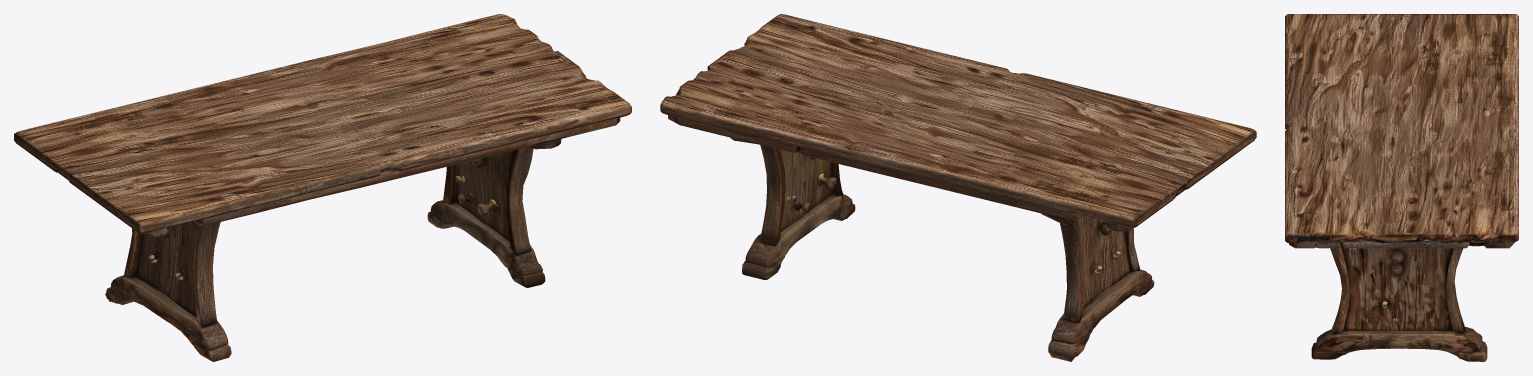
3 views of the same model, side by side, from view 1: azimuth 30°, elevation 25°; view 2: azimuth 150°, elevation 25°; view 3: azimuth 270°, elevation 25° (orthographic). The views are drawn at different scales.
Parts seen in each view (by area): view 1: tripo_node_7f2deb86-ee65-4ee2-8d6e-47a65da41e77; view 2: tripo_node_7f2deb86-ee65-4ee2-8d6e-47a65da41e77; view 3: tripo_node_7f2deb86-ee65-4ee2-8d6e-47a65da41e77.
Part boxes in pixels (bbox=[...]): tripo_node_7f2deb86-ee65-4ee2-8d6e-47a65da41e77: bbox=[14, 14, 631, 361]; tripo_node_7f2deb86-ee65-4ee2-8d6e-47a65da41e77: bbox=[660, 14, 1256, 361]; tripo_node_7f2deb86-ee65-4ee2-8d6e-47a65da41e77: bbox=[1285, 14, 1518, 361].
Size of the model in its own units: 0.998 by 0.3457 by 0.4473.
Materials: 1 (1 with a texture image).
